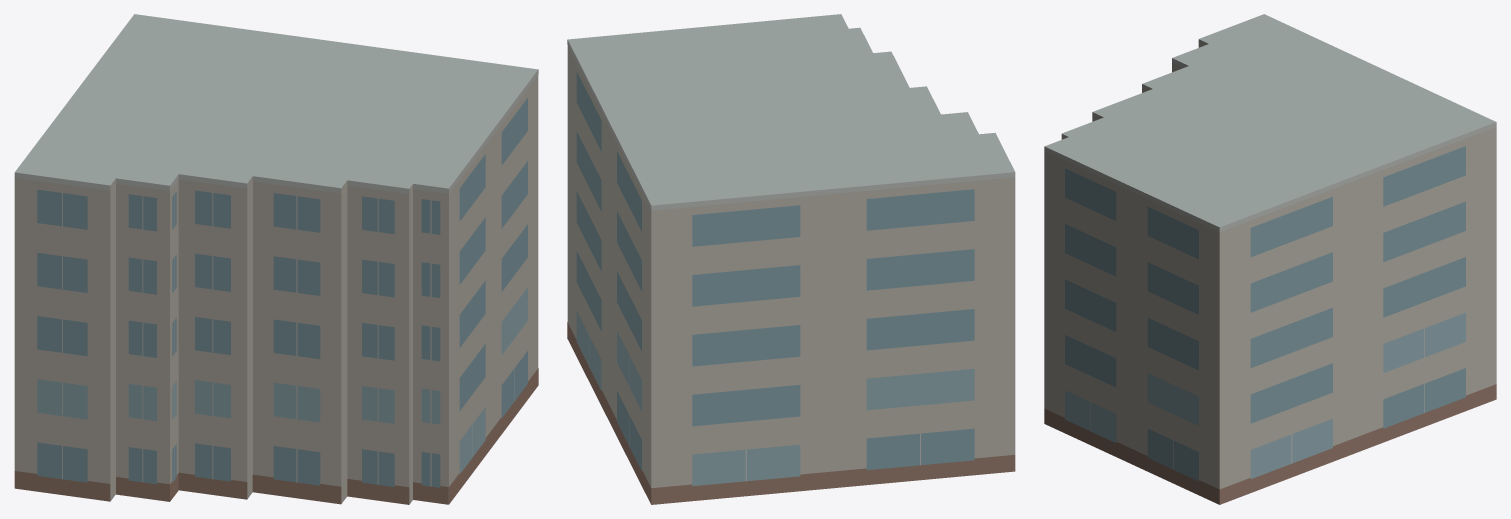
The model's file is survey-upis-32584789.glb.
3 views of the same model, side by side, from view 1: azimuth 30°, elevation 25°; view 2: azimuth 150°, elevation 25°; view 3: azimuth 270°, elevation 25° (orthographic). The views are drawn at different scales.
Parts seen in each view (by area): view 1: survey-upis-32584789.tmp; view 2: survey-upis-32584789.tmp; view 3: survey-upis-32584789.tmp.
Part boxes in pixels (box(x1,y1,x2,y2)): survey-upis-32584789.tmp: box(14, 14, 538, 504); survey-upis-32584789.tmp: box(567, 14, 1015, 504); survey-upis-32584789.tmp: box(1044, 14, 1496, 504).
Size of the model in its own units: 23.77 by 14.4 by 21.27.
